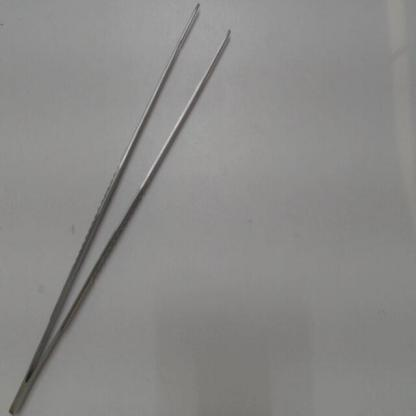DeBakey Dissector: (5, 1, 250, 414)
